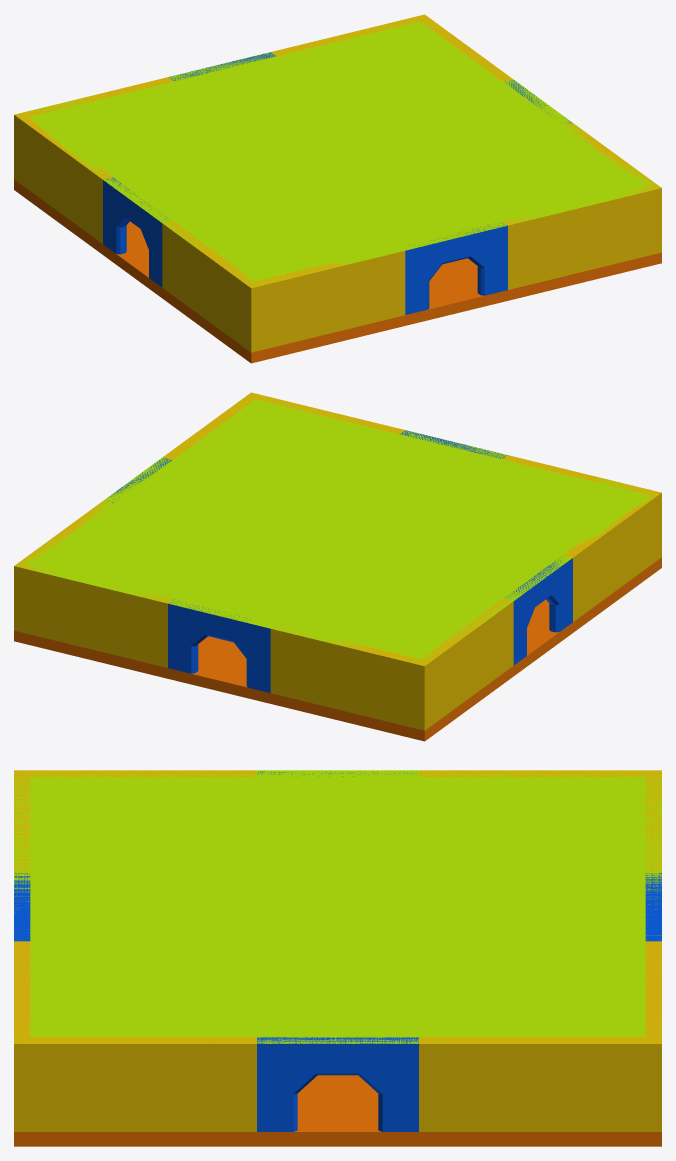
File: Square_Room.fbx
3 renders of one model, top to bottom at view 1: azimuth 30°, elevation 25°; view 2: azimuth 150°, elevation 25°; view 3: azimuth 270°, elevation 25°, orthographic. The views are drawn at different scales.
Visible parts, largest first — view 1: Roof, Floor, Door_01, Wall_Module_23, Wall_Module_19, Wall_Module_22, Wall_Module_20, Wall_Module_21, Wall_Module_16, Door_04, Wall_Module_15, Wall_Module_18 (+7 smaller); view 2: Roof, Floor, Door_02, Wall_Module_12, Wall_Module_07, Wall_Module_08, Wall_Module_06, Wall_Module_24, Door_04, Wall_Module_11, Wall_Module_09, Wall_Module_10 (+6 smaller); view 3: Roof, Floor, Door_03, Wall_Module_01, Wall_Module_02, Wall_Module_03, Wall_Module_04, Wall_Module_05, Wall_Module_14, Door_02, Door_01, Wall_Module_20 (+11 smaller).
Boxes of the visible parts, <box> form: Roof: <box>15,15,659,287</box>; Floor: <box>14,179,661,363</box>; Door_01: <box>405,222,507,314</box>; Wall_Module_23: <box>297,261,353,339</box>; Wall_Module_19: <box>502,212,559,289</box>; Wall_Module_22: <box>352,246,405,327</box>; Wall_Module_20: <box>610,184,661,264</box>; Wall_Module_21: <box>559,200,610,277</box>; Wall_Module_16: <box>245,271,302,352</box>; Door_04: <box>103,177,167,287</box>; Wall_Module_15: <box>221,264,261,352</box>; Wall_Module_18: <box>192,242,230,330</box>; Roof: <box>16,394,658,664</box>; Floor: <box>14,557,661,741</box>; Door_02: <box>168,599,270,692</box>; Wall_Module_12: <box>322,639,378,717</box>; Wall_Module_07: <box>116,590,173,667</box>; Wall_Module_08: <box>270,624,321,705</box>; Wall_Module_06: <box>14,563,68,642</box>; Wall_Module_24: <box>65,577,116,655</box>; Door_04: <box>505,556,572,665</box>; Wall_Module_11: <box>373,649,429,730</box>; Wall_Module_09: <box>414,642,454,730</box>; Wall_Module_10: <box>474,598,513,686</box>; Roof: <box>14,770,661,1043</box>; Floor: <box>14,1075,661,1146</box>; Door_03: <box>257,1037,418,1131</box>; Wall_Module_01: <box>176,1037,256,1131</box>; Wall_Module_02: <box>95,1037,175,1131</box>; Wall_Module_03: <box>581,1037,661,1131</box>; Wall_Module_04: <box>500,1037,580,1131</box>; Wall_Module_05: <box>14,1037,94,1131</box>; Wall_Module_14: <box>419,1037,499,1131</box>; Door_02: <box>645,873,661,941</box>; Door_01: <box>14,873,30,941</box>; Wall_Module_20: <box>14,1009,30,1131</box>.
Size of the model in its own units: 4000 by 700 by 4000.
